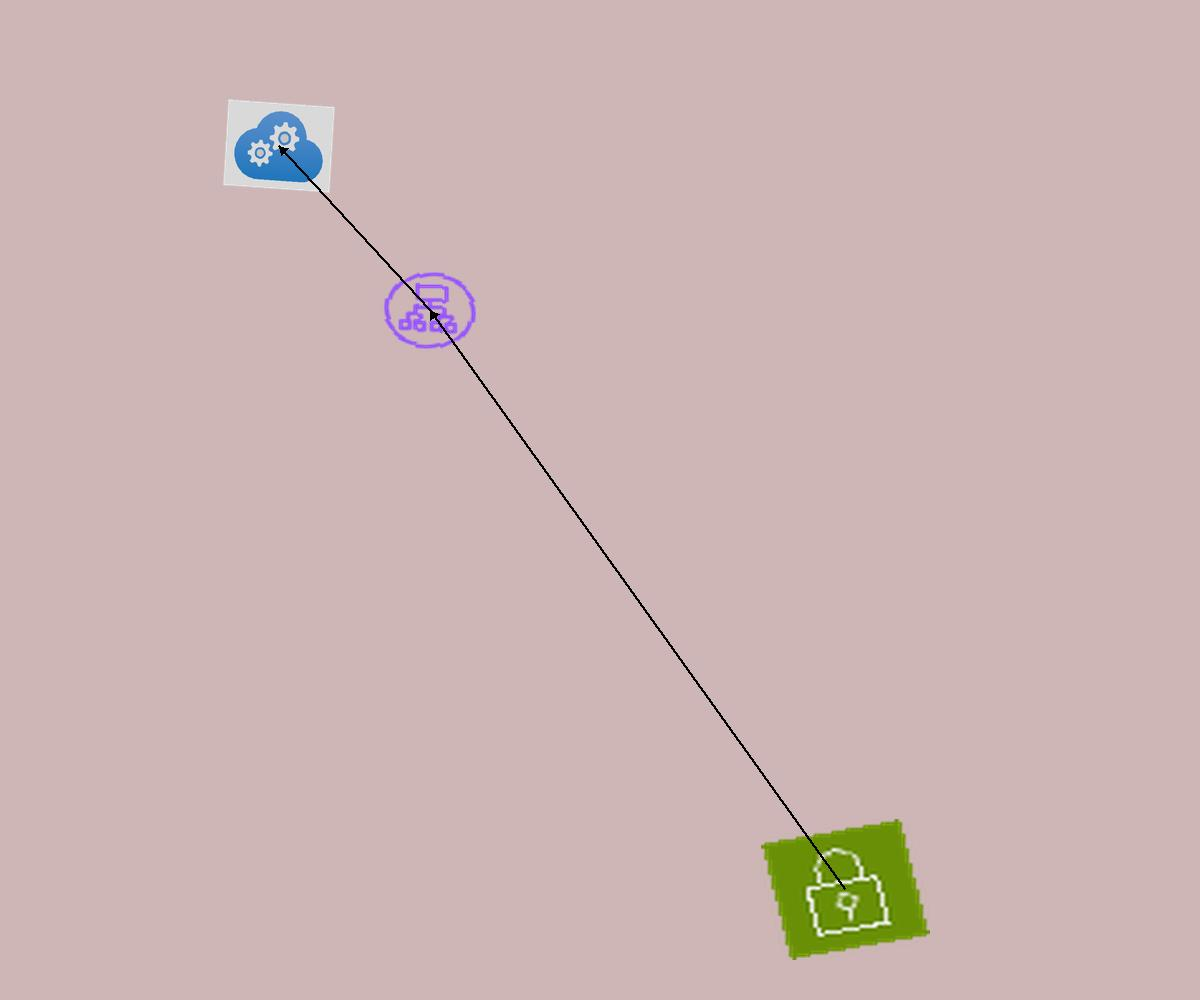AWS-Public-subnet: (761, 819, 930, 960)
AWS-Res_Elastic-Load-Balancing_Application-Load-Balancer: (374, 264, 486, 357)
Azure_cloud_services: (223, 99, 335, 193)
